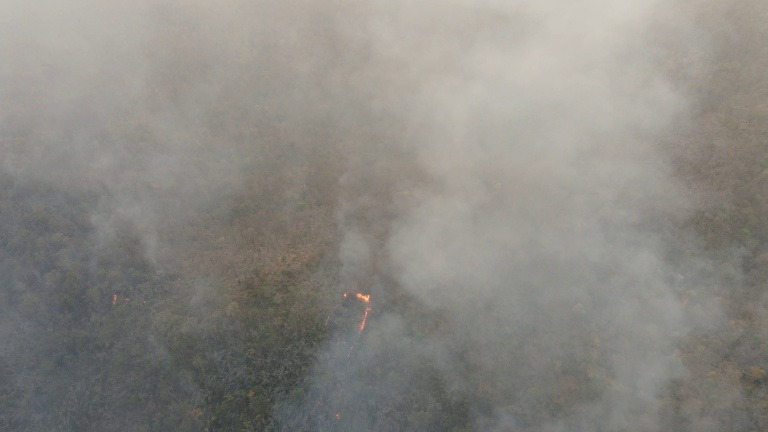fire: (324, 290, 373, 359), (105, 291, 129, 308), (334, 409, 342, 425)
smoke: (312, 1, 763, 429), (1, 159, 233, 430), (2, 1, 376, 159)
